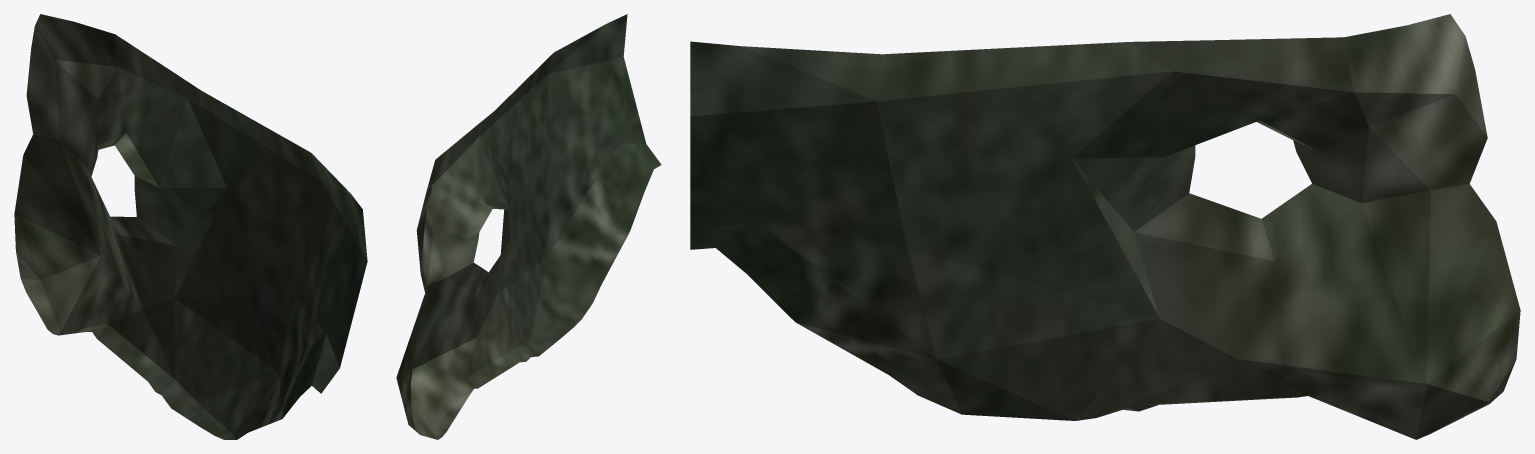
3 views of the same model, side by side, from view 1: azimuth 30°, elevation 25°; view 2: azimuth 150°, elevation 25°; view 3: azimuth 270°, elevation 25° (orthographic). The views are drawn at different scales.
Size of the model in its own units: 0.321 by 1.36 by 2.43.
Materials: 1 (1 with a texture image).
